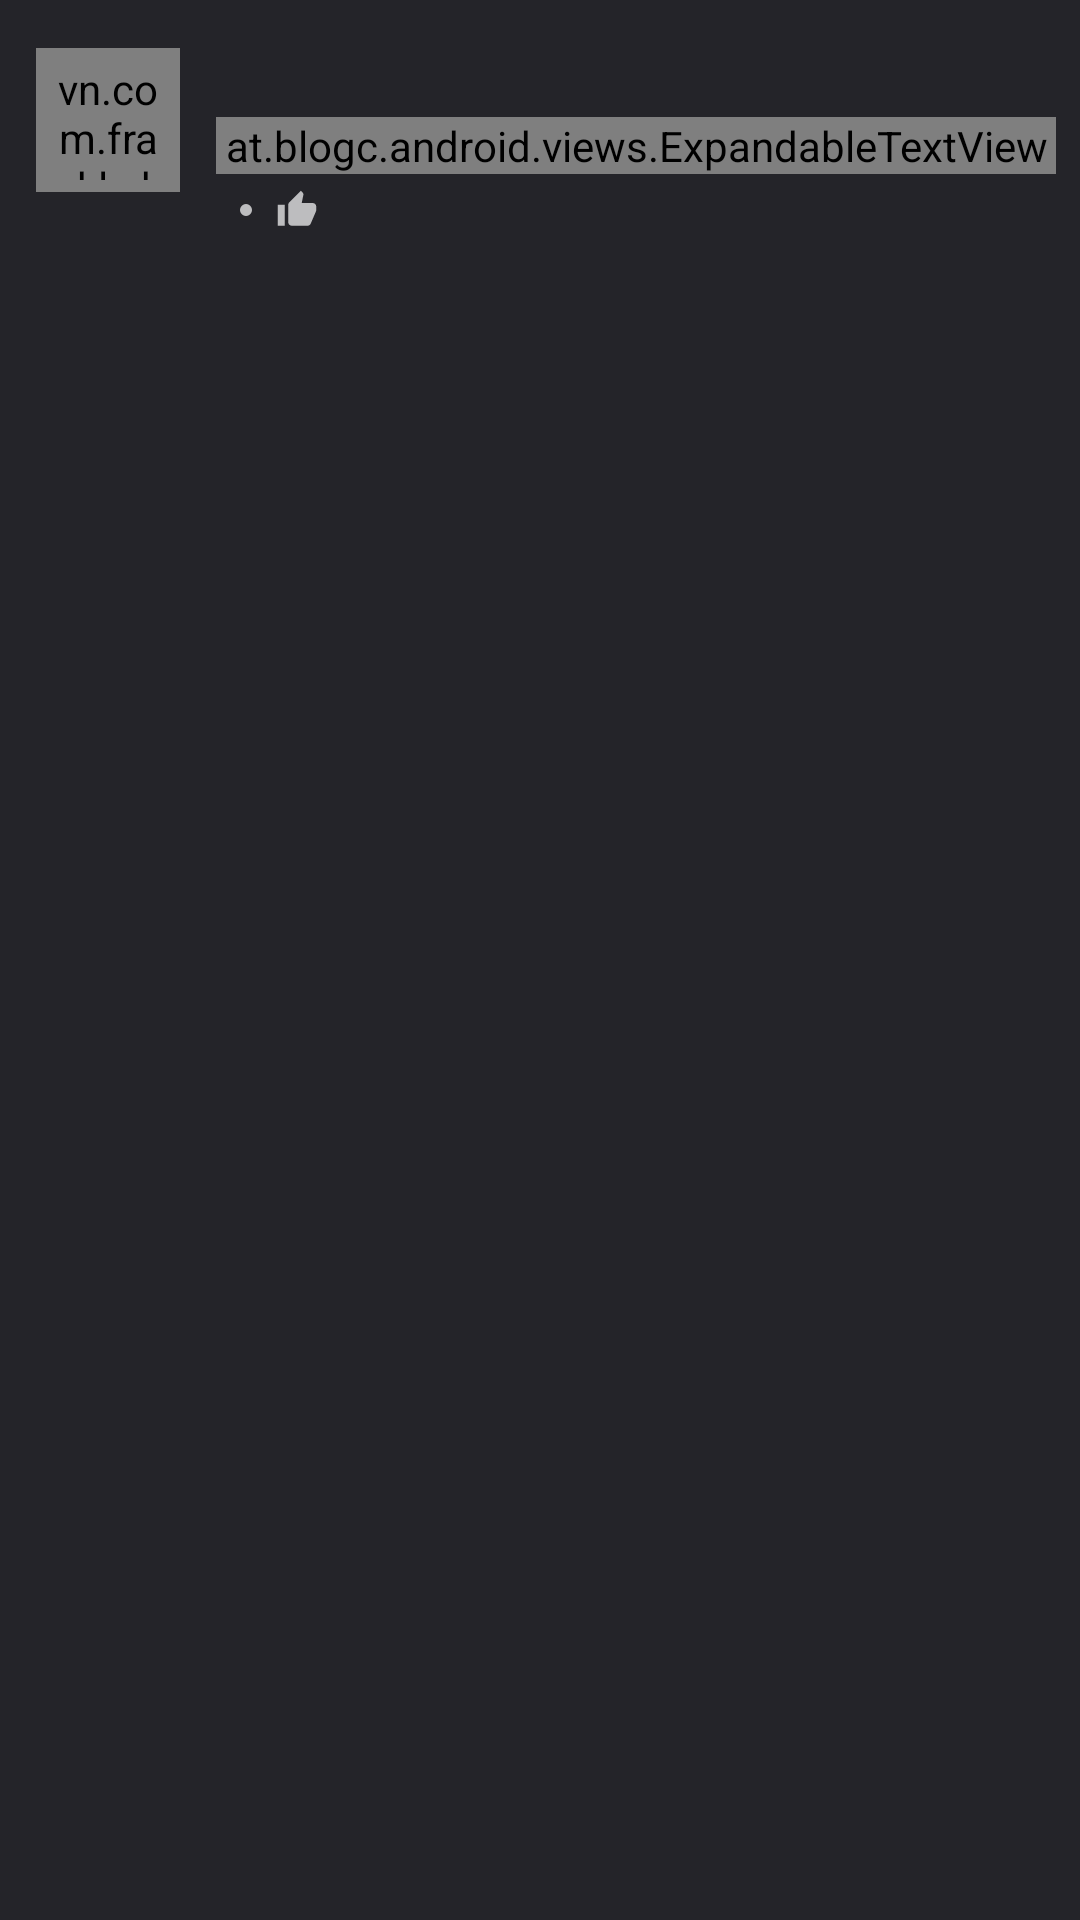

Icons on this 1080w x 1920h Android screen, each with the point to tap as (x=x, y=y):
comment like: (x=297, y=208)
